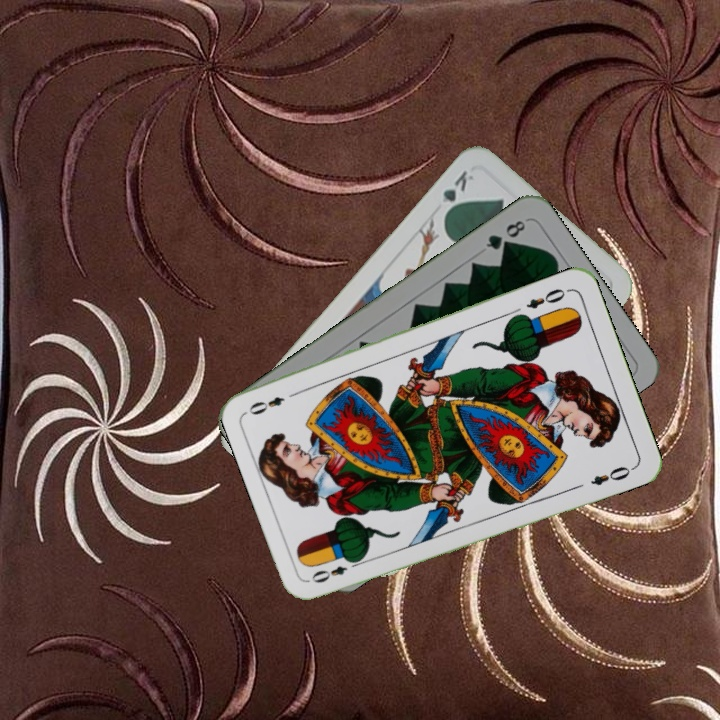EO: (307, 555, 364, 586), (522, 284, 568, 312)
G8: (481, 216, 529, 253)
GK: (438, 166, 477, 219)
